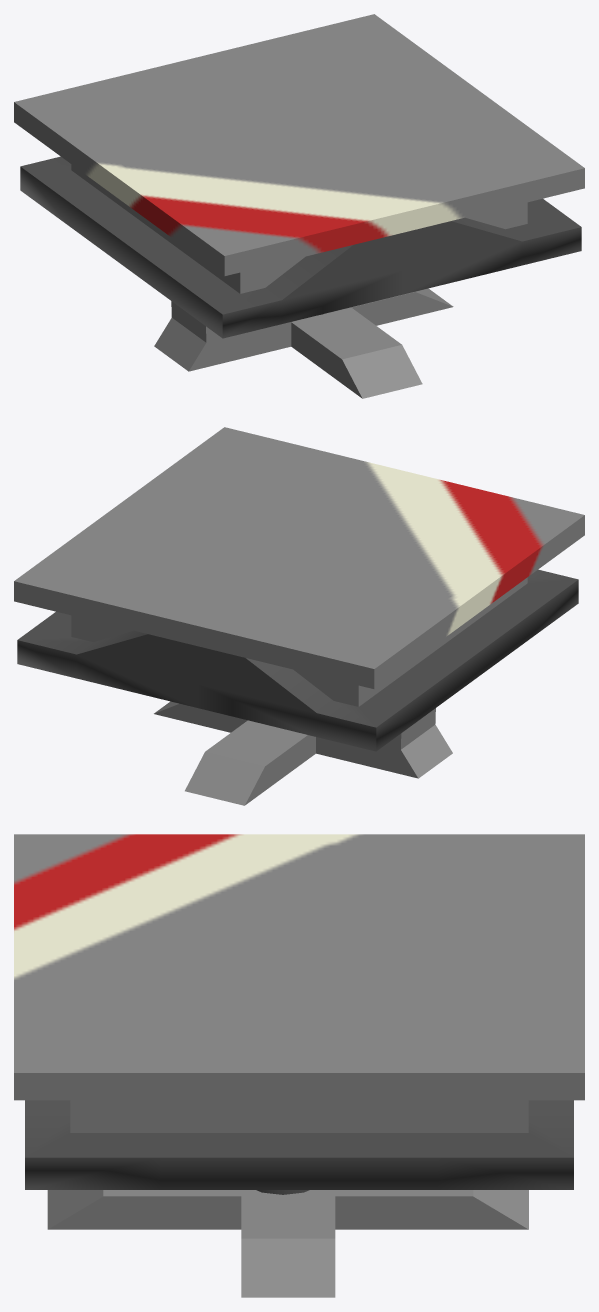
The model's file is Landing_Pad_02.fbx.
3 views of the same model, one above another, from view 1: azimuth 30°, elevation 25°; view 2: azimuth 150°, elevation 25°; view 3: azimuth 270°, elevation 25° (orthographic). The views are drawn at different scales.
Visible parts, largest first — view 1: Pad_02, Pad_02_Base; view 2: Pad_02, Pad_02_Base; view 3: Pad_02, Pad_02_Base.
Boxes of the visible parts, left/top/right/bottom form: Pad_02: left=14, top=14, right=584, bottom=338; Pad_02_Base: left=154, top=288, right=453, bottom=398; Pad_02: left=14, top=427, right=584, bottom=751; Pad_02_Base: left=154, top=701, right=452, bottom=805; Pad_02: left=14, top=834, right=584, bottom=1189; Pad_02_Base: left=47, top=1190, right=528, bottom=1297.
Size of the model in its own units: 20.09 by 10.02 by 20.28.
